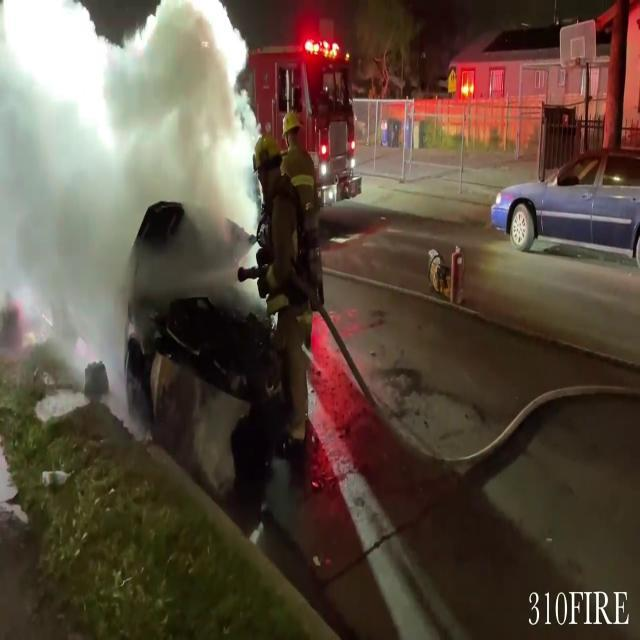Smoke: (0, 0, 260, 351)
